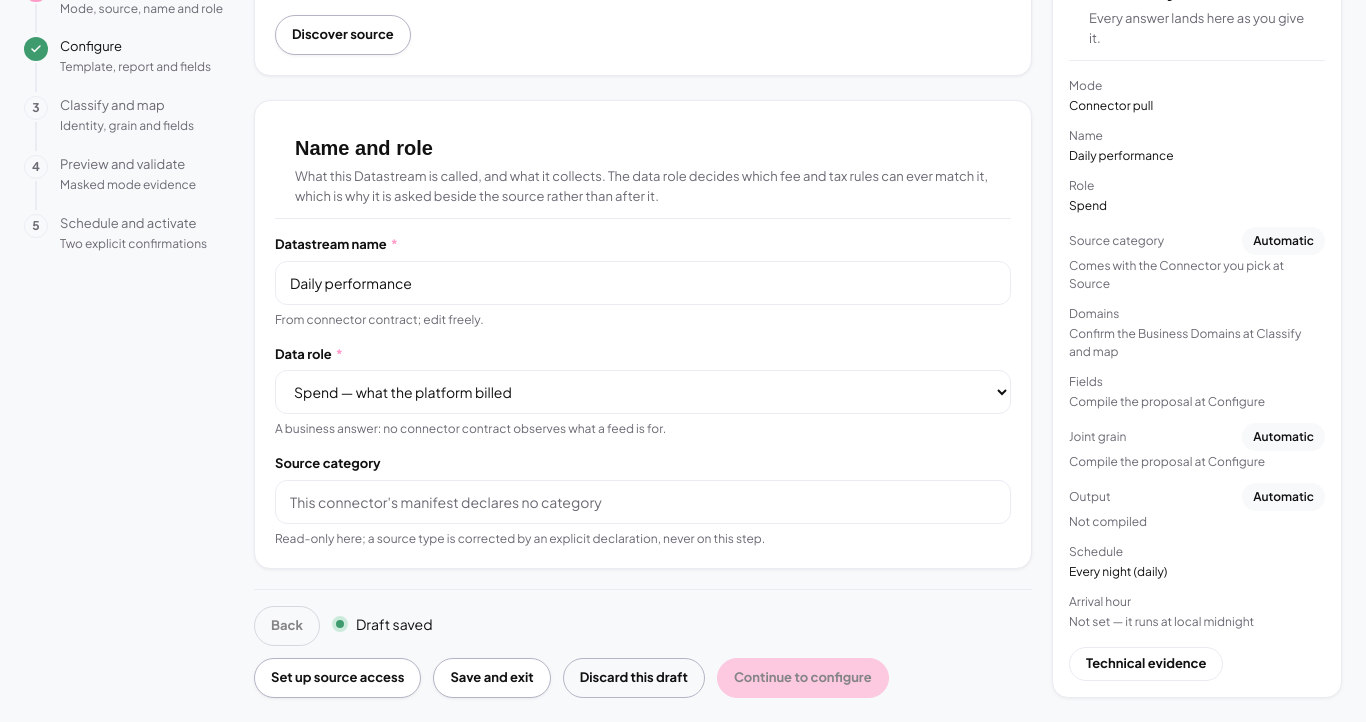
Test: discards nothing when the person keeps the draft
(page scrolled)
Click the button "Discard this draft": coordinates (634, 678) [563,658,705,698]
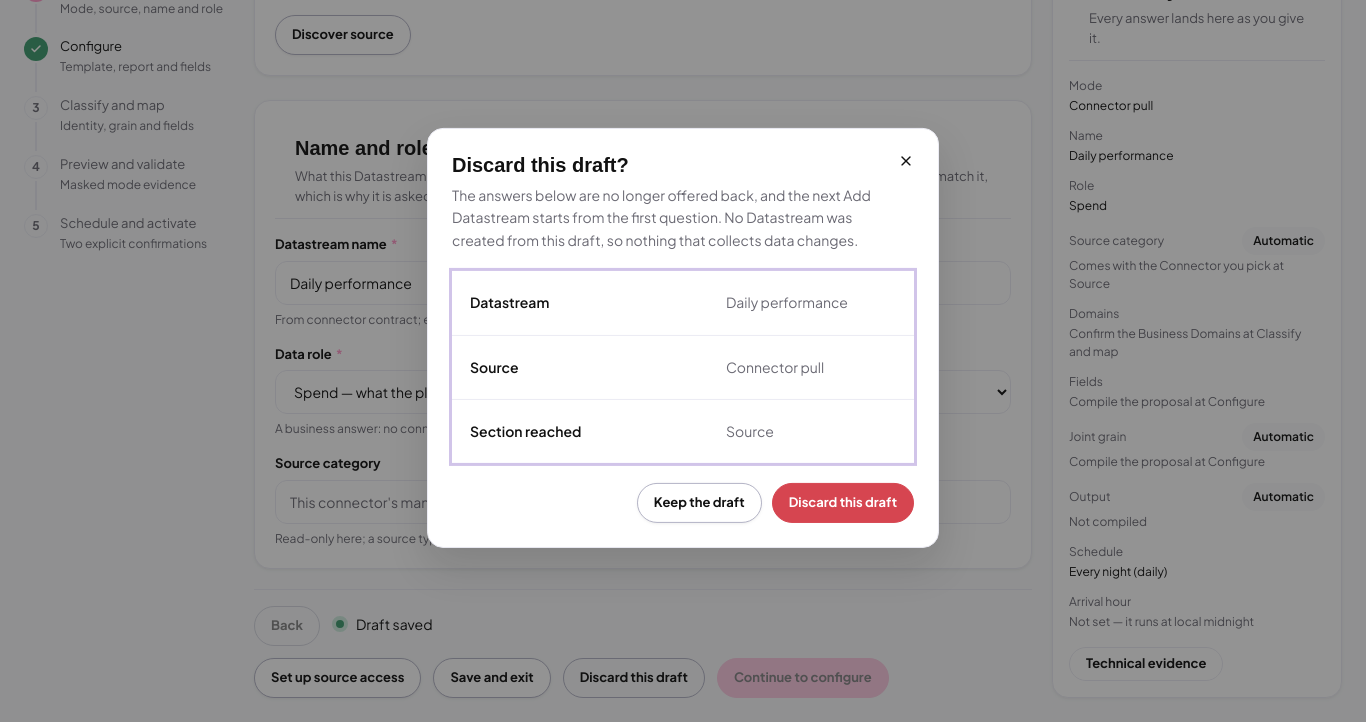
Click the button with test id "datastream-setup-discard-cancel": coordinates (699, 503) [637,483,762,523]
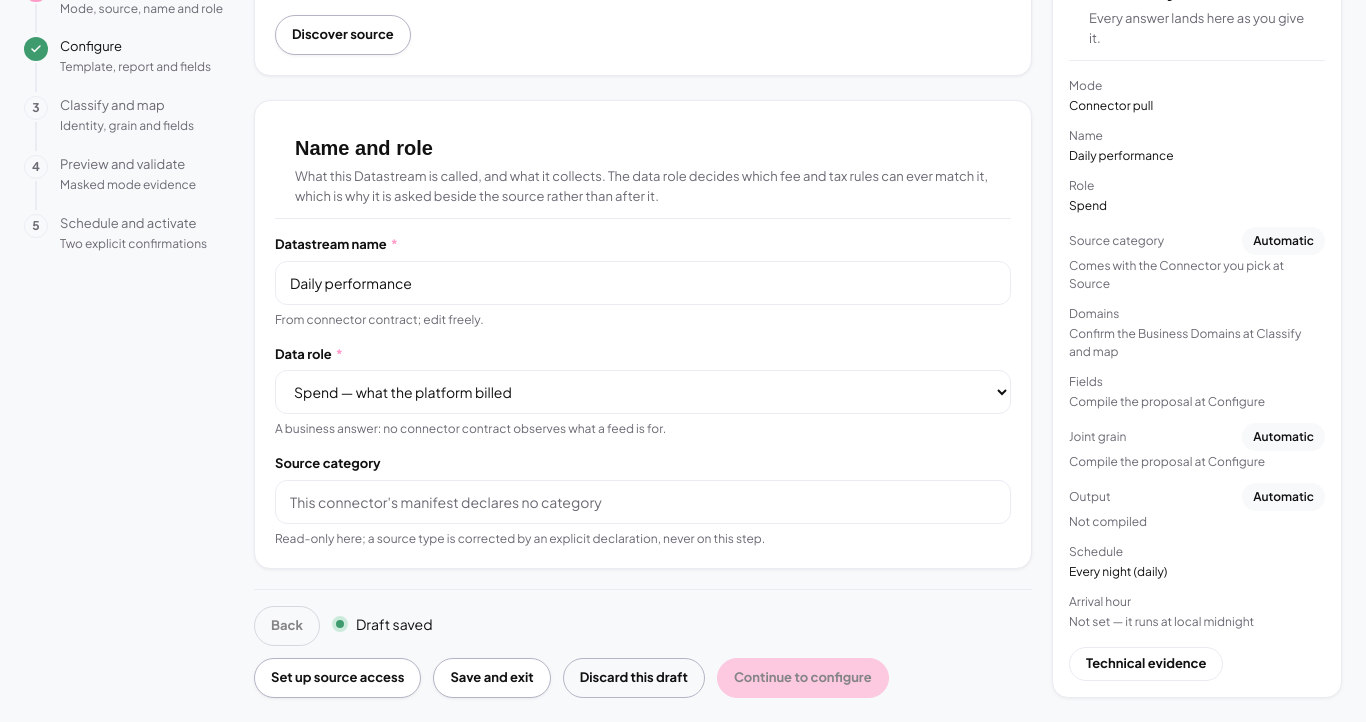
Expected: the button "Discard this draft" is shown, [563,658,705,698]
Expected: the dialog with test id "datastream-setup-discard" is gone
